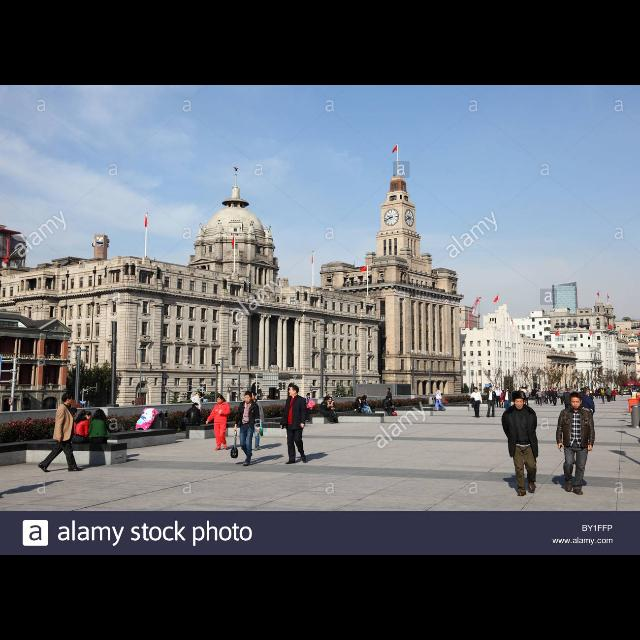head: (570, 394, 584, 410), (512, 396, 526, 410), (62, 394, 74, 406), (288, 386, 300, 396), (244, 392, 253, 404), (70, 408, 78, 418), (84, 412, 92, 422), (249, 392, 257, 402), (96, 409, 104, 418), (218, 396, 225, 406), (584, 388, 590, 396), (198, 393, 204, 399), (307, 394, 311, 400), (324, 398, 330, 402), (474, 388, 478, 394), (489, 386, 493, 392), (505, 388, 509, 394), (329, 398, 333, 402), (387, 388, 391, 392), (436, 387, 440, 391), (560, 388, 564, 392), (538, 389, 542, 391), (543, 388, 545, 392), (554, 388, 556, 392), (567, 390, 571, 392), (496, 388, 499, 390), (364, 396, 366, 399), (388, 398, 390, 400), (503, 391, 505, 393), (545, 390, 547, 392), (550, 388, 552, 390), (360, 398, 362, 400)
person: (500, 390, 540, 498), (556, 392, 596, 496), (36, 392, 86, 474), (230, 391, 264, 469), (280, 386, 310, 466), (66, 410, 102, 458), (205, 394, 232, 452), (240, 391, 264, 452), (85, 409, 111, 461), (61, 406, 88, 456), (576, 386, 596, 442), (190, 391, 207, 429), (318, 396, 339, 424), (324, 396, 341, 424), (469, 387, 483, 419), (302, 392, 316, 423), (432, 387, 448, 413), (358, 394, 374, 418), (562, 388, 574, 418), (501, 388, 513, 417), (380, 396, 396, 416), (486, 387, 496, 419), (354, 397, 368, 419), (384, 387, 394, 413), (493, 387, 502, 409), (499, 390, 507, 410), (536, 388, 544, 408), (550, 388, 558, 408), (558, 388, 566, 406), (541, 388, 547, 406), (548, 388, 554, 406), (544, 389, 550, 405)
